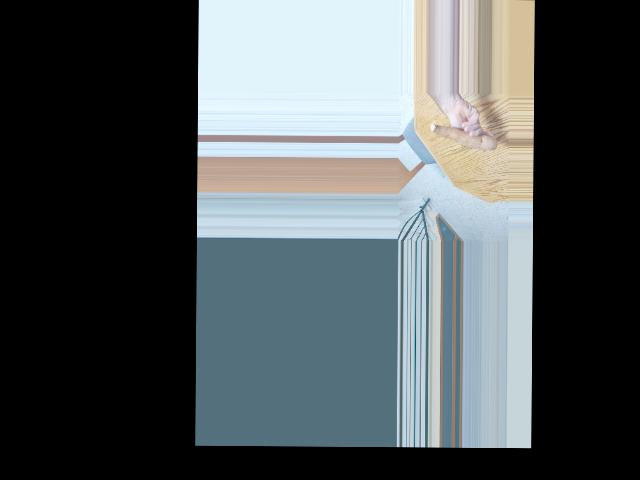sweet_potato: (429, 123, 496, 153)
